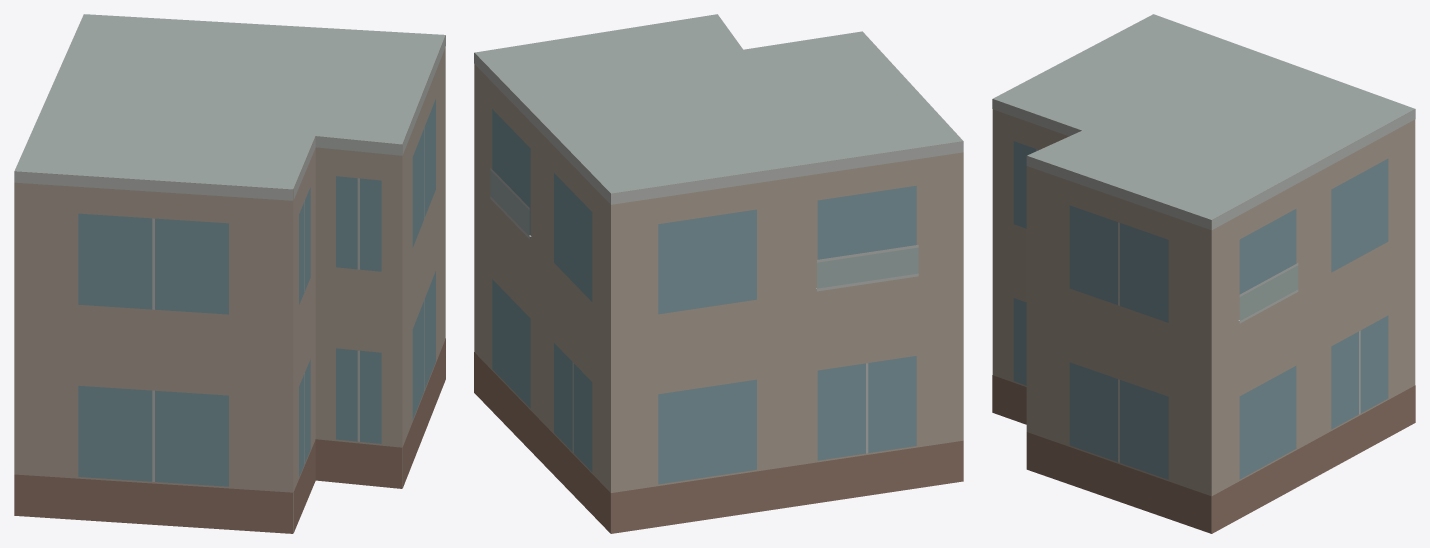
File: survey-upis-32491789.glb
3 renders of one model, left to right at view 1: azimuth 30°, elevation 25°; view 2: azimuth 150°, elevation 25°; view 3: azimuth 270°, elevation 25°, orthographic. The views are drawn at different scales.
Parts seen in each view (by area): view 1: survey-upis-32491789.tmp; view 2: survey-upis-32491789.tmp; view 3: survey-upis-32491789.tmp.
Part boxes in pixels (box(x1,y1,x2,y2)): survey-upis-32491789.tmp: box(14, 14, 445, 533); survey-upis-32491789.tmp: box(474, 14, 963, 533); survey-upis-32491789.tmp: box(992, 14, 1415, 533).
Bounding box in the file's own units: 10.43 × 7.4 × 9.05.
